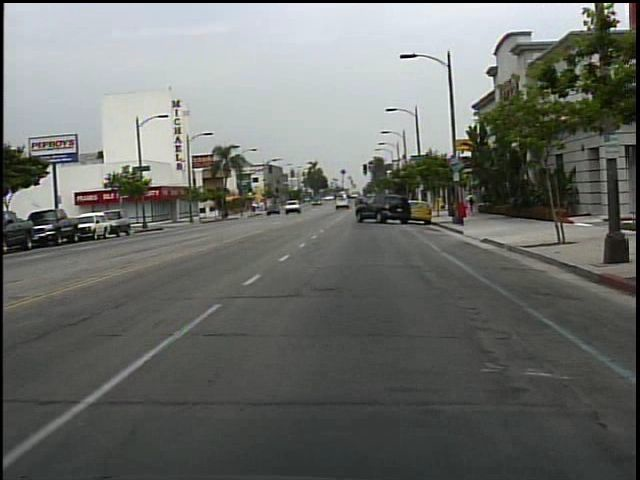person: (466, 188, 480, 219)
